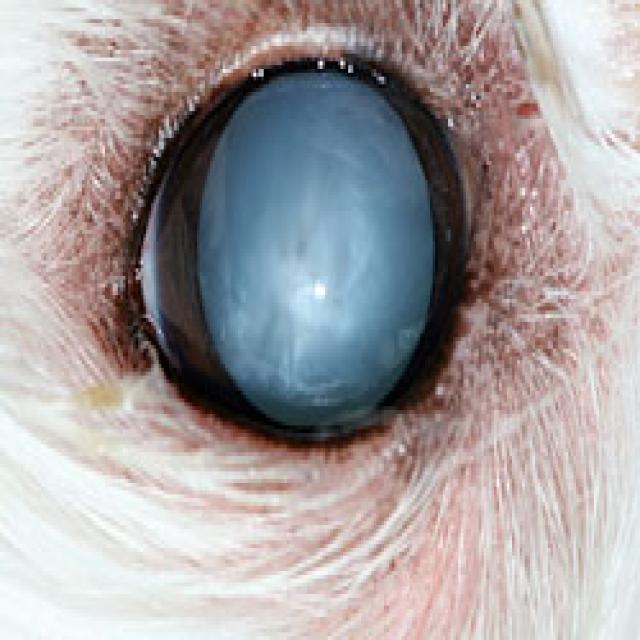Cataract: (133, 42, 472, 500)
